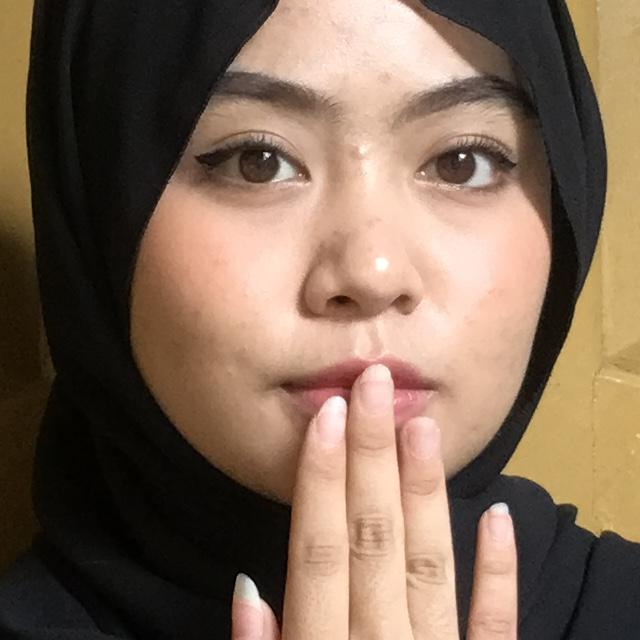ganteng: (170, 336, 590, 640)
